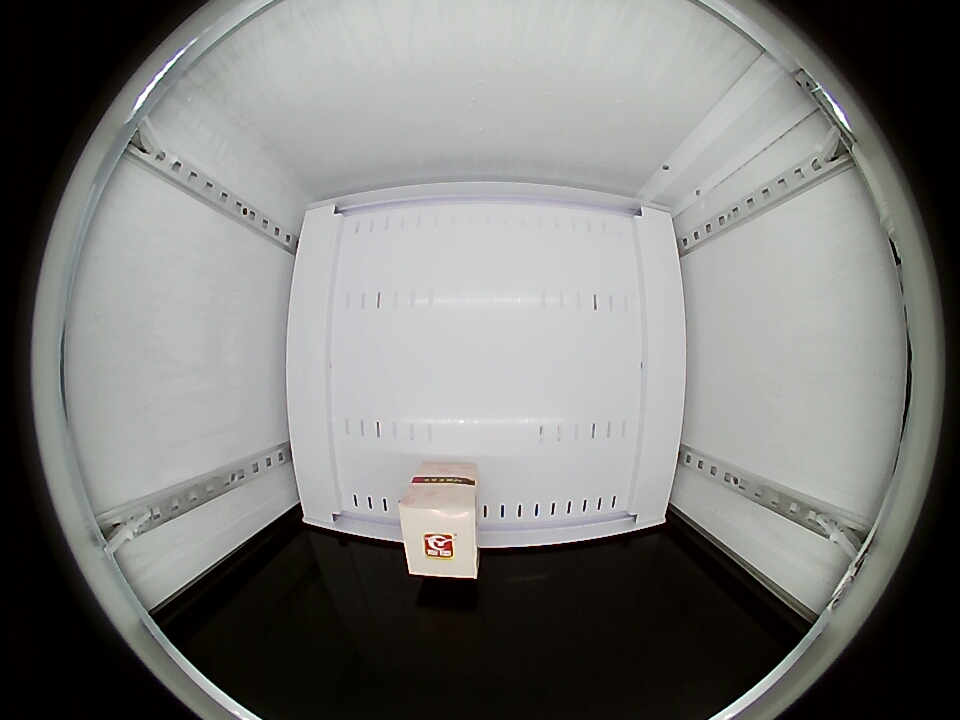rousongbing: (400, 477, 480, 579)
